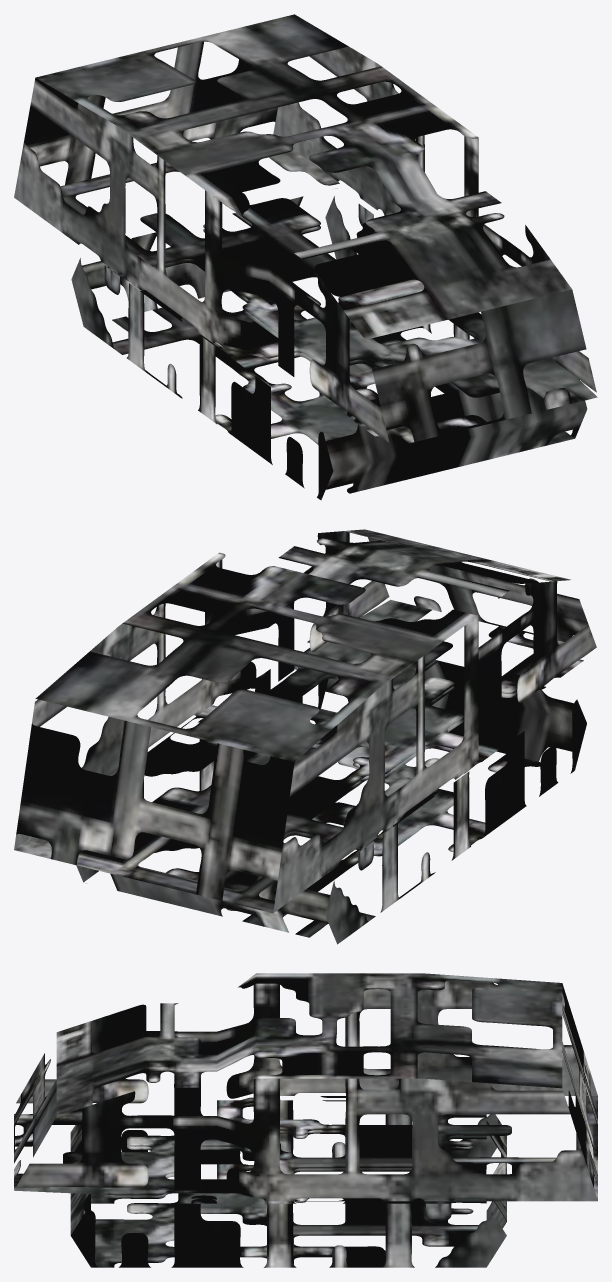
Rendered from ambulanceprop_dam_hdtex.glb.
The picture shows the model from 3 angles, top to bottom: view 1: azimuth 30°, elevation 25°; view 2: azimuth 150°, elevation 25°; view 3: azimuth 270°, elevation 25°; orthographic projection. The views are drawn at different scales.
Visible parts, largest first — view 1: AmbulanceL1; view 2: AmbulanceL1; view 3: AmbulanceL1.
Boxes of the visible parts, box(x1,y1,x2,y2) form: AmbulanceL1: box(14, 14, 597, 500); AmbulanceL1: box(14, 529, 596, 944); AmbulanceL1: box(14, 973, 597, 1267).
Size of the model in its own units: 3.19 by 2.68 by 7.47.
1 material, 1 textured.
